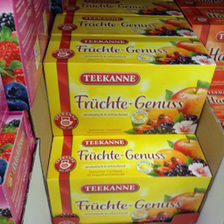tea: (41, 35, 217, 136), (46, 135, 214, 224)
